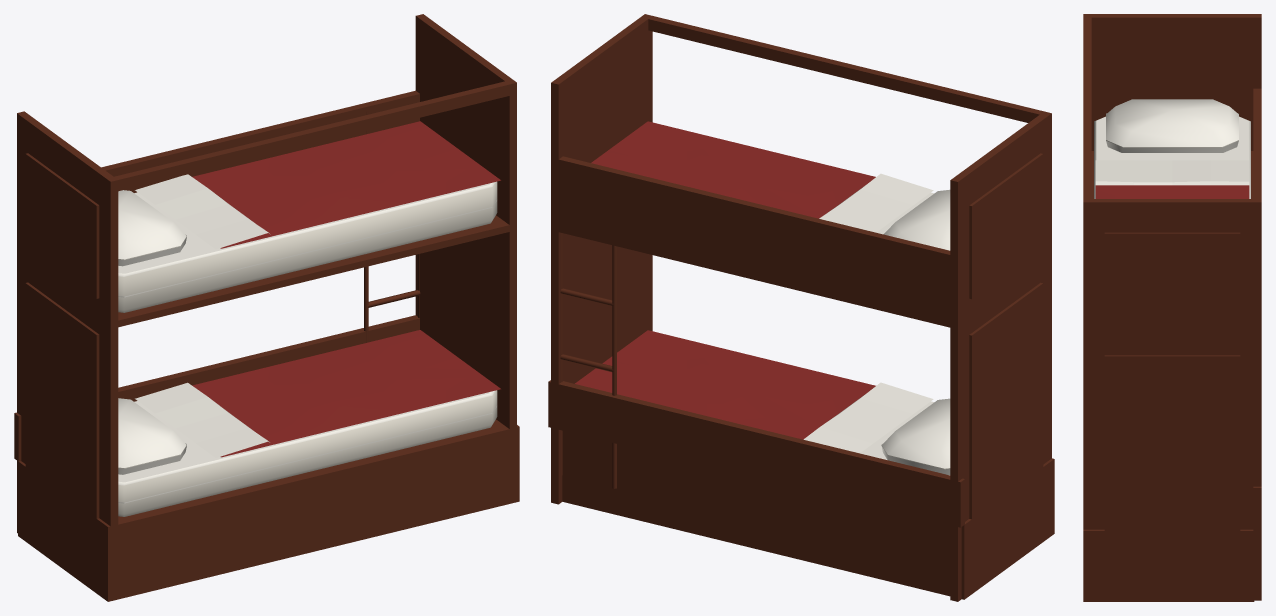
File: parametric-berth_double-2nd.glb
3 views of the same model, side by side, from view 1: azimuth 30°, elevation 25°; view 2: azimuth 150°, elevation 25°; view 3: azimuth 270°, elevation 25° (orthographic). The views are drawn at different scales.
Visible parts, largest first — view 1: parametric-berth_double-2nd; view 2: parametric-berth_double-2nd; view 3: parametric-berth_double-2nd.
Part boxes in pixels (x1,y1,x2,y2): parametric-berth_double-2nd: (14,14,519,601); parametric-berth_double-2nd: (548,14,1054,601); parametric-berth_double-2nd: (1083,14,1261,601).
Size of the model in its own units: 1.9 by 1.85 by 0.75.
